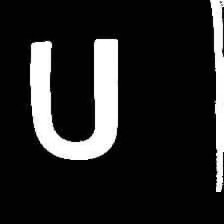LTR_U: (18, 33, 122, 162)
